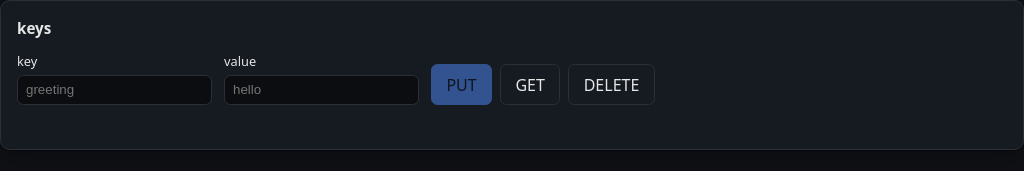
Test: KVForm › shows the error message when a put fails
In the field labelled "key": {"x": 114, "y": 90} [17, 75, 212, 105], type "k"
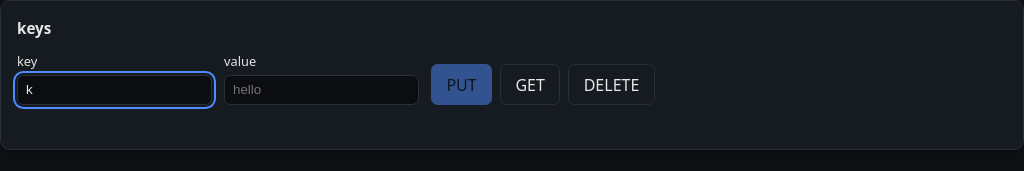
In the field labelled "value": {"x": 322, "y": 90} [224, 75, 419, 105], type "v"
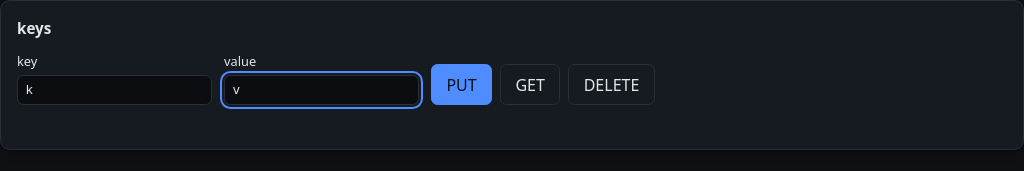
Click the button "PUT": {"x": 462, "y": 85} [431, 64, 492, 105]
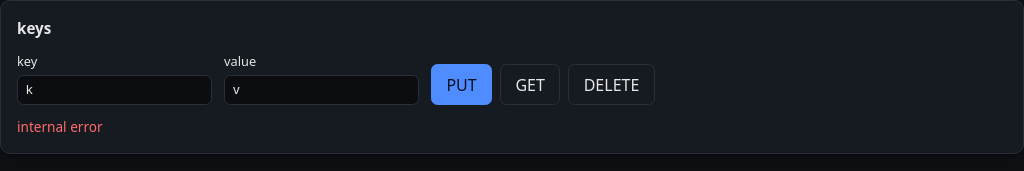
expect the text "internal error" is shown: met, box [17, 117, 103, 136]
